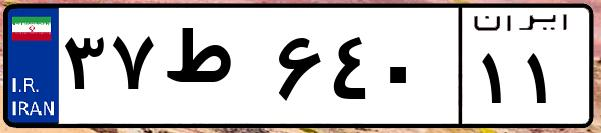0: (385, 28, 445, 110)
1: (475, 38, 525, 113), (525, 38, 570, 115)
3: (57, 26, 110, 100)
4: (330, 28, 385, 110)
6: (270, 28, 330, 110)
7: (110, 28, 158, 98)
ط: (158, 20, 270, 120)
